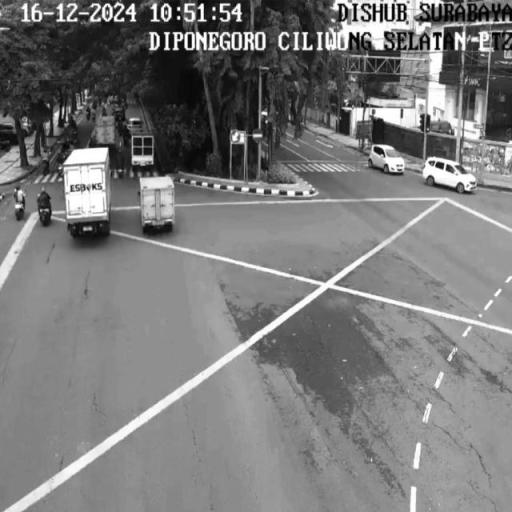car: (422, 155, 479, 193), (368, 143, 407, 174)
motorcycle: (14, 198, 26, 220), (40, 204, 51, 224)
truck: (66, 147, 111, 241), (139, 178, 176, 233), (130, 132, 156, 165)
